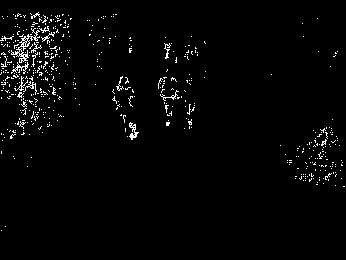person: (112, 75, 139, 142), (155, 69, 178, 127), (178, 71, 199, 131)
